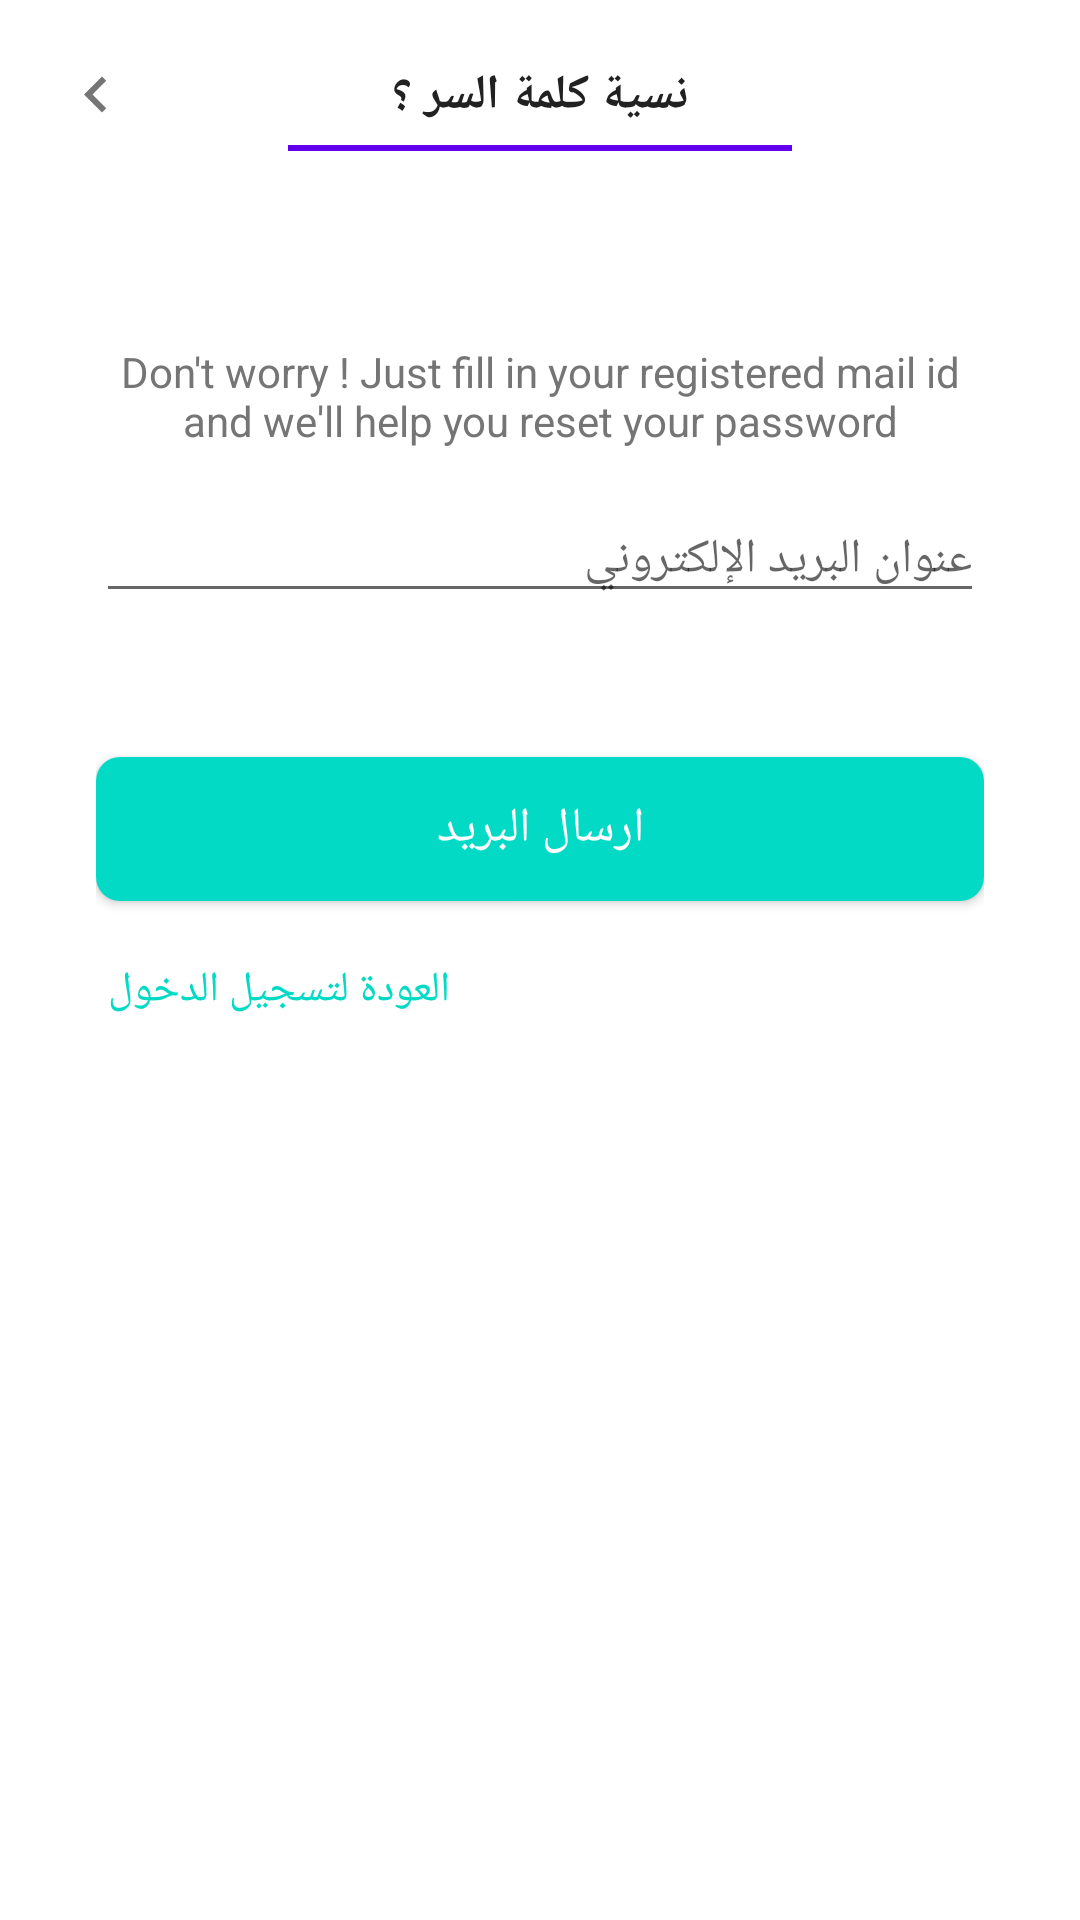

Icons on this 1080 × 1920 Android screen, each with its box as (x1, y1, x2, y2):
keyboard arrow left: (84, 77, 106, 112)
